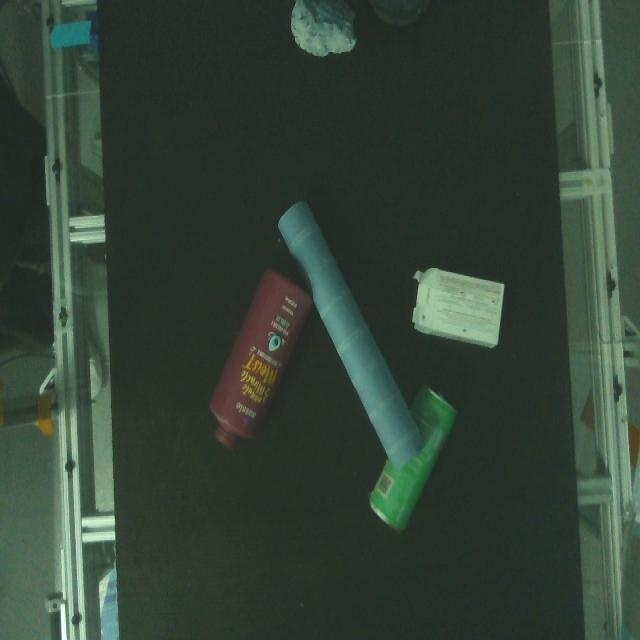non-paper: (206, 264, 312, 460), (365, 374, 463, 536), (286, 0, 356, 64)
paper: (276, 192, 428, 468), (410, 265, 508, 352)
